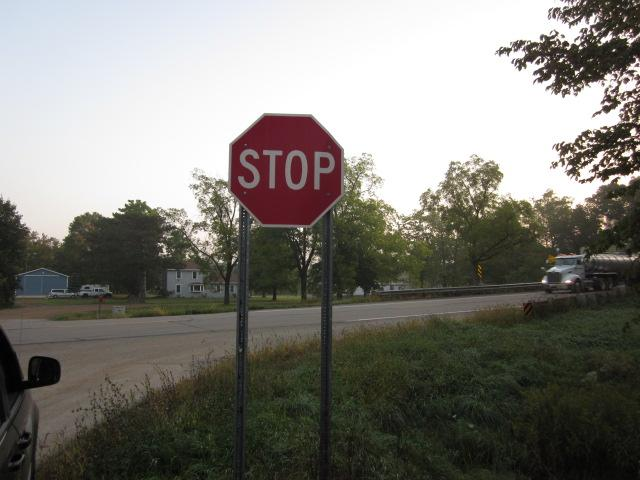stop: (225, 106, 354, 232)
